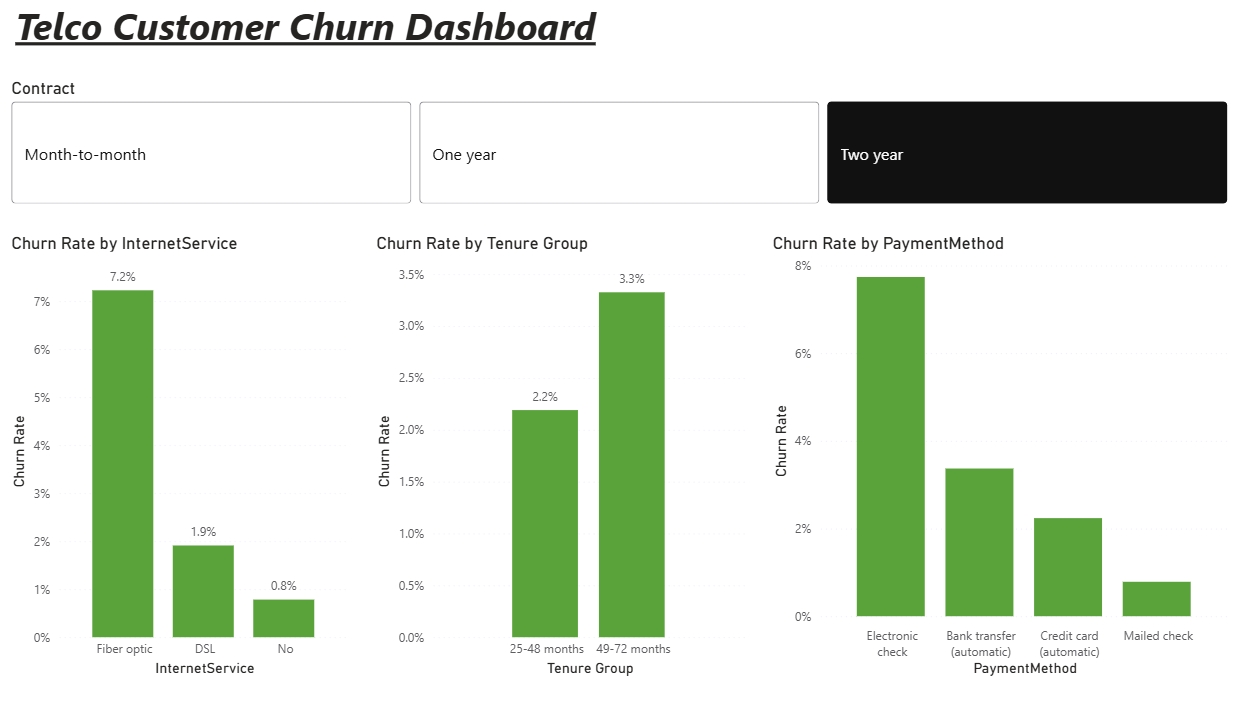

The dashboard page shown, as its layout file describes it:
{"tool":"powerbi","page":{"name":"Churn Drivers","canvas":[1280,720],"ordinal":1},"visuals":[{"type":"clusteredColumnChart","fields":{"Category":["Telco.InternetService"],"Y":["Telco.Churn Rate"]},"box":[12.3,237.4,348.5,448.7],"z":0},{"type":"clusteredColumnChart","fields":{"Category":["Telco.Tenure Group"],"Y":["Telco.Churn Rate"]},"box":[377.4,237.4,380.1,448.7],"z":1000},{"type":"clusteredColumnChart","fields":{"Category":["Telco.PaymentMethod"],"Y":["Telco.Churn Rate"]},"box":[773.9,237.4,466.6,448.7],"z":2000},{"type":"advancedSlicerVisual","fields":{"Values":["Telco.Contract"]},"box":[12.3,82.3,1228.1,131.7],"z":3000},{"type":"textbox","box":[16.5,0,623,68.6],"z":4000}]}

Visuals, with their boxes in screenshot pixels (x1, y1, x2, y2), scaled from the page's 1280x720 canvas onto the 1255x705 screenshot:
clusteredColumnChart - Telco.InternetService x Telco.Churn Rate: 12:232:354:672
clusteredColumnChart - Telco.Tenure Group x Telco.Churn Rate: 370:232:743:672
clusteredColumnChart - Telco.PaymentMethod x Telco.Churn Rate: 759:232:1216:672
advancedSlicerVisual - Telco.Contract: 12:81:1216:210
textbox: 16:0:627:67
